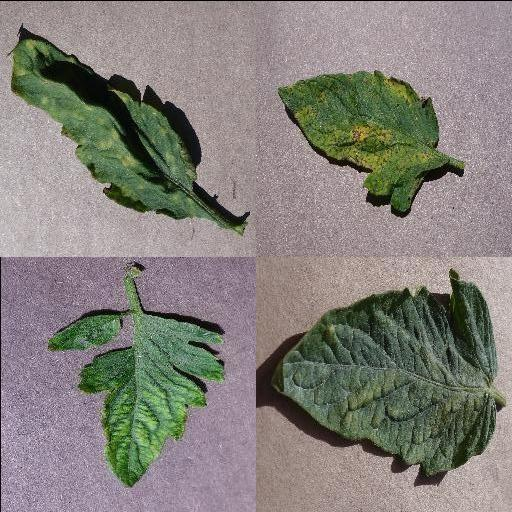Leaf Mold: (7, 35, 199, 217)
Mosaic Virus: (75, 309, 227, 489)
Septoria: (277, 68, 441, 212)
Spider Mites: (272, 267, 498, 473)
